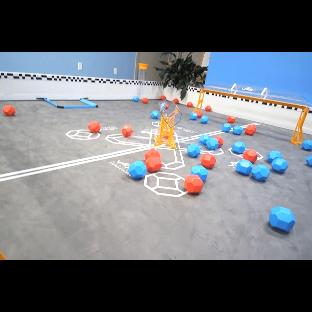V5_BLUE: (269, 207, 294, 232), (268, 152, 287, 172), (127, 161, 145, 178), (236, 159, 253, 175), (222, 123, 242, 135), (254, 165, 269, 180), (204, 135, 219, 148), (231, 142, 244, 154), (187, 145, 201, 156), (231, 142, 245, 153), (199, 135, 210, 146), (303, 140, 311, 149), (200, 116, 209, 124), (151, 111, 160, 119), (306, 156, 312, 167), (256, 165, 268, 170), (190, 113, 197, 120), (133, 96, 138, 102)
V5_RED: (184, 175, 203, 193), (146, 148, 160, 169), (202, 153, 216, 167), (3, 105, 14, 116), (248, 149, 257, 161), (88, 122, 99, 131), (215, 136, 223, 147), (121, 127, 131, 135), (246, 126, 256, 134), (196, 111, 204, 119), (205, 105, 211, 112), (173, 98, 179, 104), (187, 102, 193, 107), (142, 98, 147, 103), (161, 96, 166, 100), (54, 260, 72, 260)
